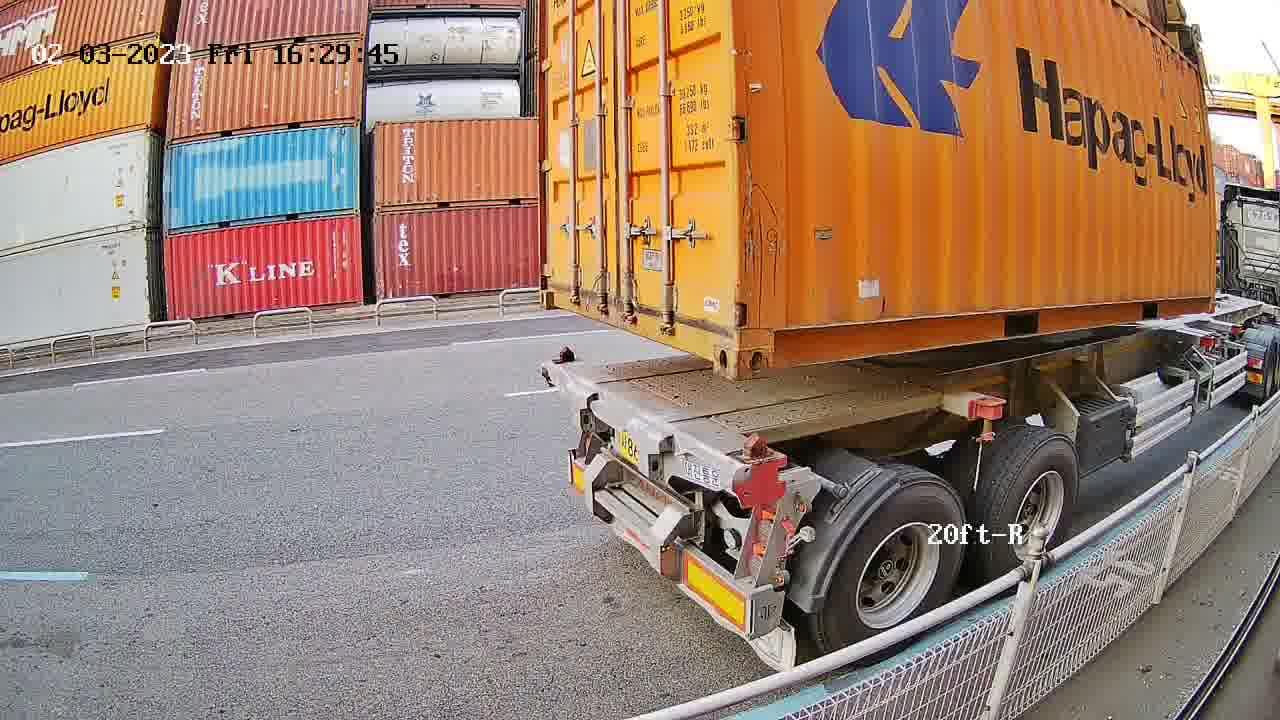Chassis: (545, 359, 784, 493)
Cone: (739, 432, 770, 505), (556, 345, 578, 363)
Hole_L: (735, 300, 812, 379), (538, 267, 569, 313)
Hole_R: (690, 294, 736, 380)
Tire: (824, 482, 962, 667), (988, 432, 1080, 589)
